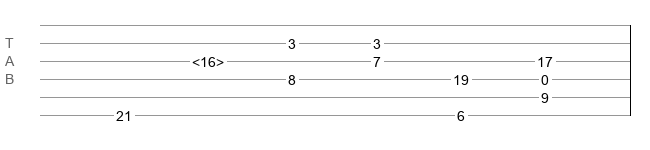0: (541, 72, 549, 82)
17: (537, 54, 553, 64)
19: (453, 72, 469, 82)
21: (116, 108, 132, 118)
3: (288, 36, 296, 46), (373, 36, 381, 46)
6: (457, 108, 465, 118)
7: (373, 54, 381, 64)
8: (288, 72, 296, 82)
9: (541, 90, 549, 100)
harmonic: (192, 54, 224, 64)
